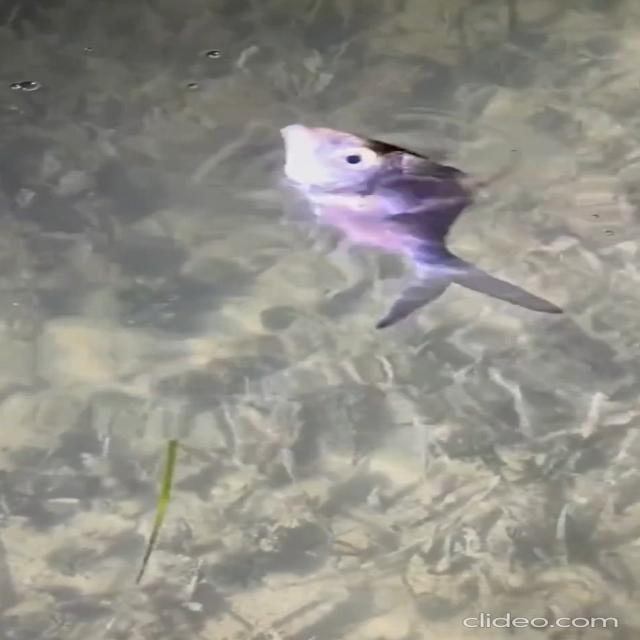fish: (229, 120, 591, 346)
